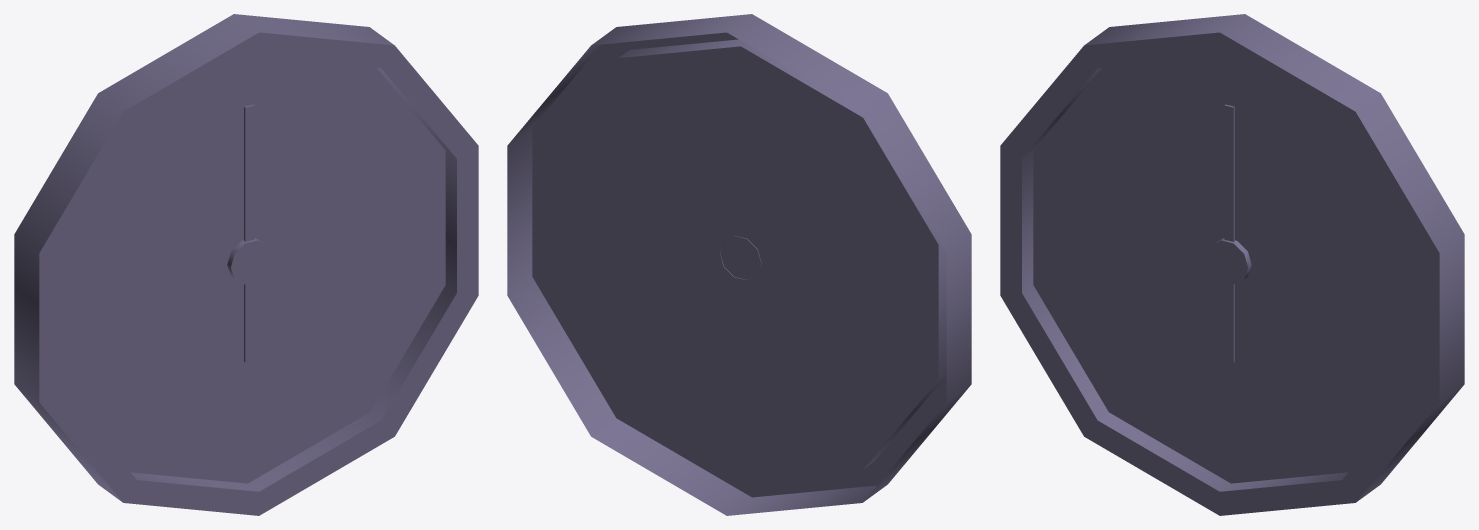
The model's file is SM_Clock.fbx.
3 renders of one model, left to right at view 1: azimuth 30°, elevation 25°; view 2: azimuth 150°, elevation 25°; view 3: azimuth 330°, elevation 25°, orthographic.
Parts seen in each view (by area): view 1: SM_Clock, SM_MinuteHand, SM_HourHand; view 2: SM_Clock; view 3: SM_Clock, SM_MinuteHand, SM_HourHand.
Boxes of the visible parts, bbox=[...] form: SM_Clock: bbox=[14, 14, 478, 515]; SM_MinuteHand: bbox=[244, 104, 254, 241]; SM_HourHand: bbox=[244, 282, 254, 362]; SM_Clock: bbox=[507, 14, 971, 515]; SM_Clock: bbox=[1000, 14, 1464, 515]; SM_MinuteHand: bbox=[1224, 104, 1234, 241]; SM_HourHand: bbox=[1224, 282, 1234, 362].
Bounding box in the file's own units: 67.56 × 71.04 × 6.72.
